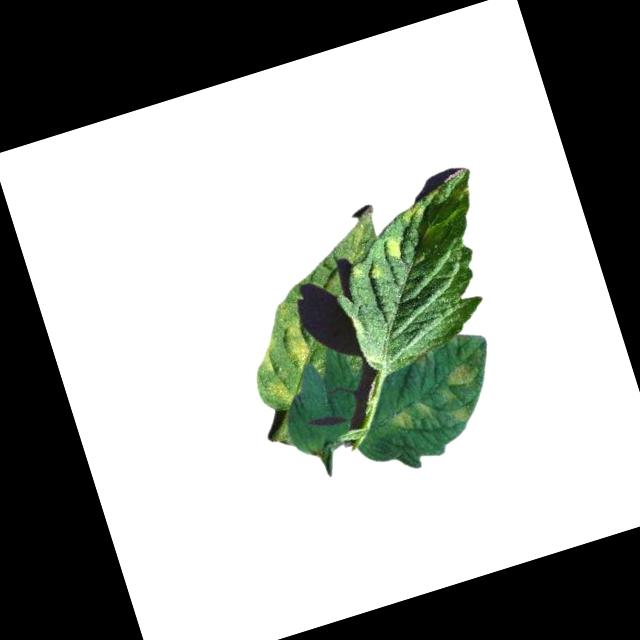Leaf_Mold: (273, 311, 313, 370), (384, 399, 427, 435), (260, 376, 295, 411), (442, 358, 478, 389), (442, 394, 474, 426), (379, 233, 408, 263)
